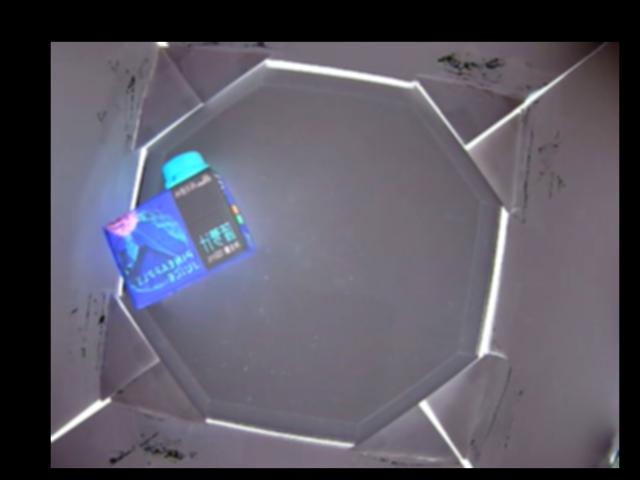Bottle: (99, 151, 252, 310)
